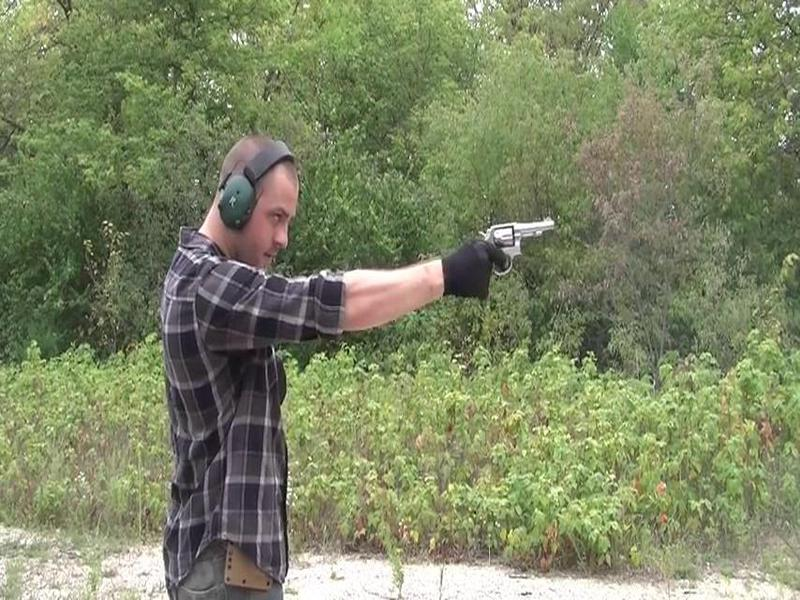Revolver: (466, 214, 559, 274)
